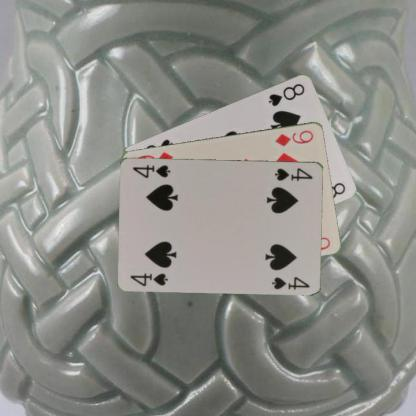4s: (128, 270, 170, 287), (273, 165, 314, 182)
8s: (266, 80, 306, 108)
9d: (273, 127, 315, 147)
